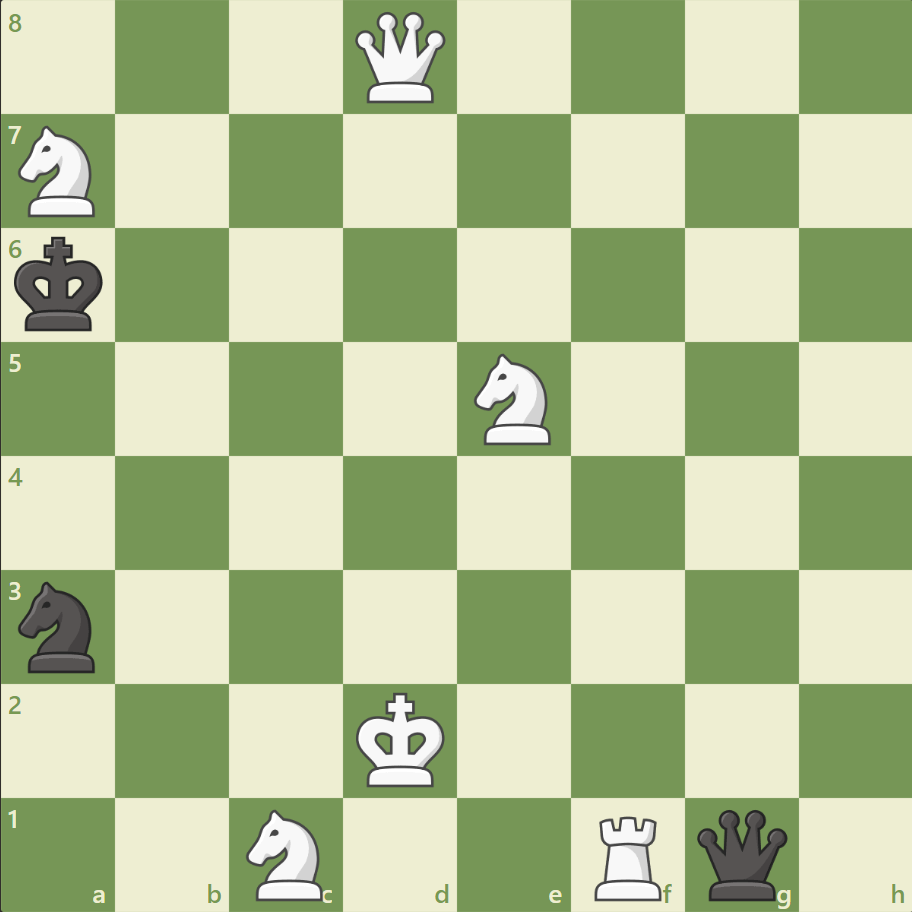K: (351, 685, 451, 793)
N: (11, 121, 108, 223), (465, 348, 562, 450), (238, 802, 335, 904)
Q: (351, 9, 450, 108)
R: (587, 806, 670, 904)
k: (11, 231, 111, 339)
n: (11, 575, 108, 677)
q: (691, 804, 790, 903)
